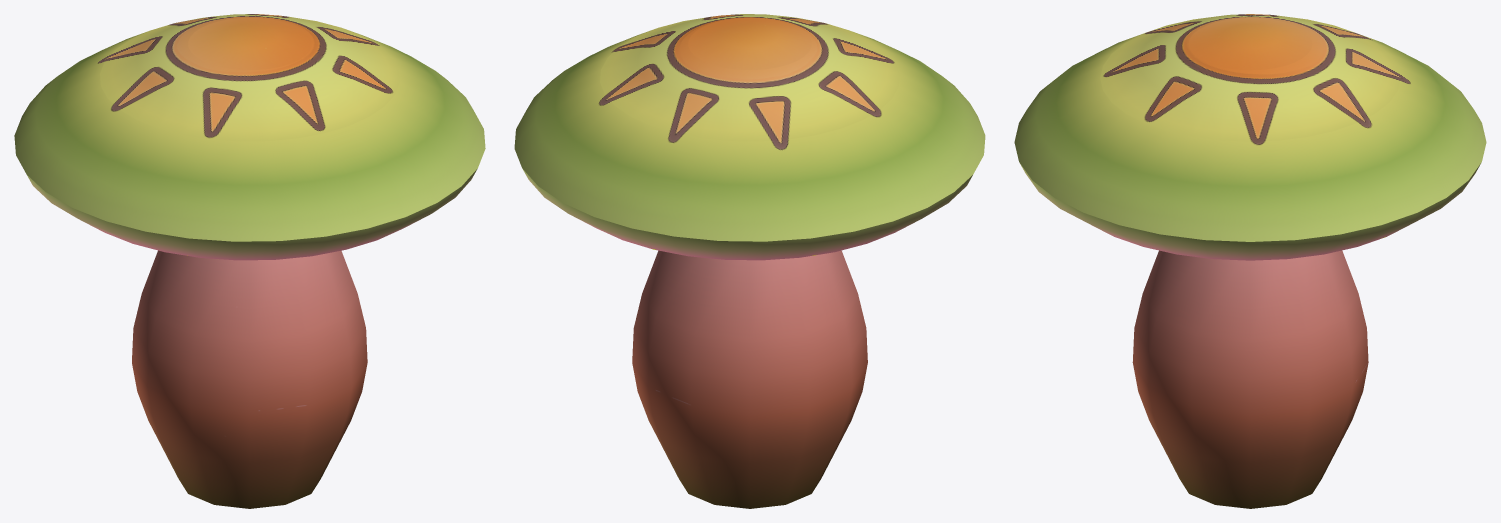
Rendered from Day_Mushroom_A.fbx.
3 views of the same model, side by side, from view 1: azimuth 30°, elevation 25°; view 2: azimuth 150°, elevation 25°; view 3: azimuth 270°, elevation 25° (orthographic).
Visible parts, largest first — view 1: Day_Mushroom_A_LOD0; view 2: Day_Mushroom_A_LOD0; view 3: Day_Mushroom_A_LOD0.
Boxes of the visible parts, bbox=[...] form: Day_Mushroom_A_LOD0: bbox=[14, 14, 485, 508]; Day_Mushroom_A_LOD0: bbox=[514, 14, 985, 508]; Day_Mushroom_A_LOD0: bbox=[1014, 14, 1486, 508].
Size of what is drawn, in the model's own units: 94.92 by 98.22 by 94.92.
Materials: 1 (1 with a texture image).
